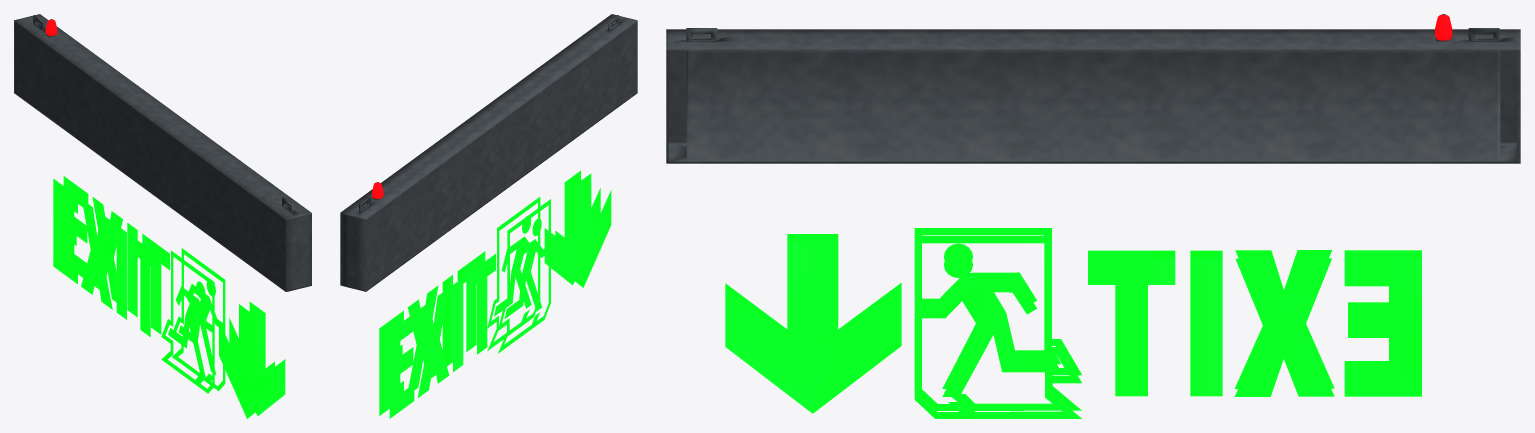
The model's file is exit_sign.glb.
The picture shows the model from 3 angles, left to right: view 1: azimuth 30°, elevation 25°; view 2: azimuth 150°, elevation 25°; view 3: azimuth 270°, elevation 25°; orthographic projection. The views are drawn at different scales.
Parts seen in each view (by area): view 1: exit; view 2: exit; view 3: exit.
Part boxes in pixels (left/top/right/bottom): exit: left=14, top=14, right=311, bottom=418; exit: left=340, top=14, right=637, bottom=418; exit: left=666, top=14, right=1520, bottom=418.
Size of the model in its own units: 0.0248 by 0.2318 by 0.4485.
Materials: 3 (1 with a texture image).
